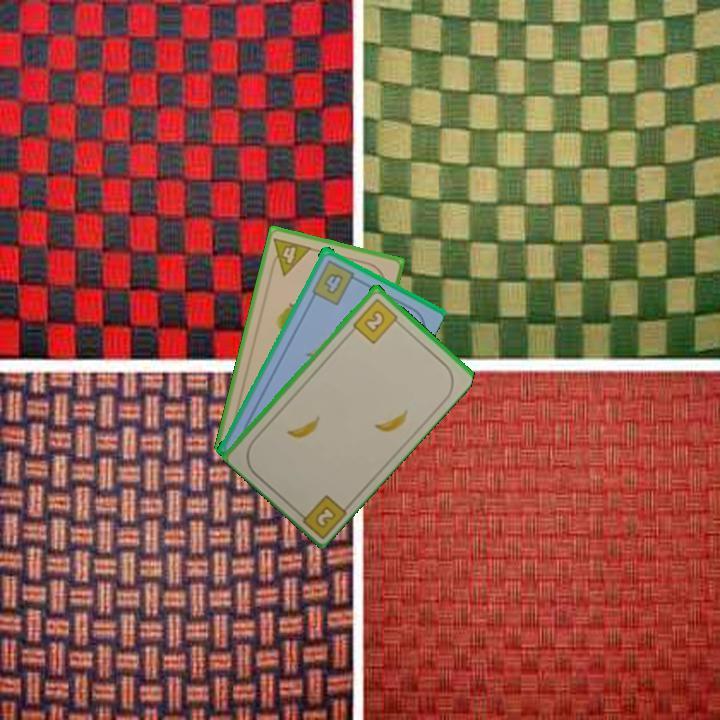2b: (349, 294, 404, 346), (292, 491, 350, 539)
4b: (308, 256, 361, 307)
4p: (266, 234, 314, 278)
